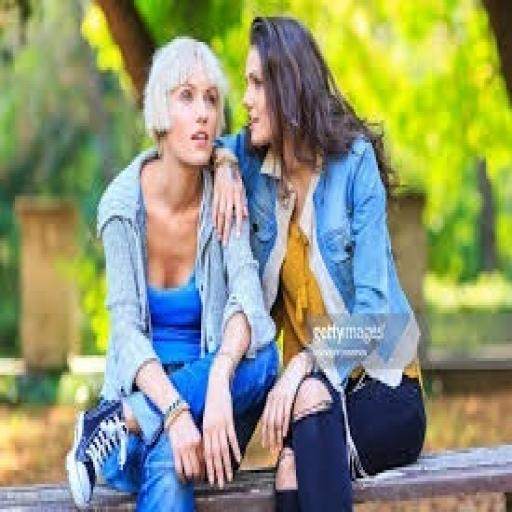sitting: (64, 11, 428, 509)
